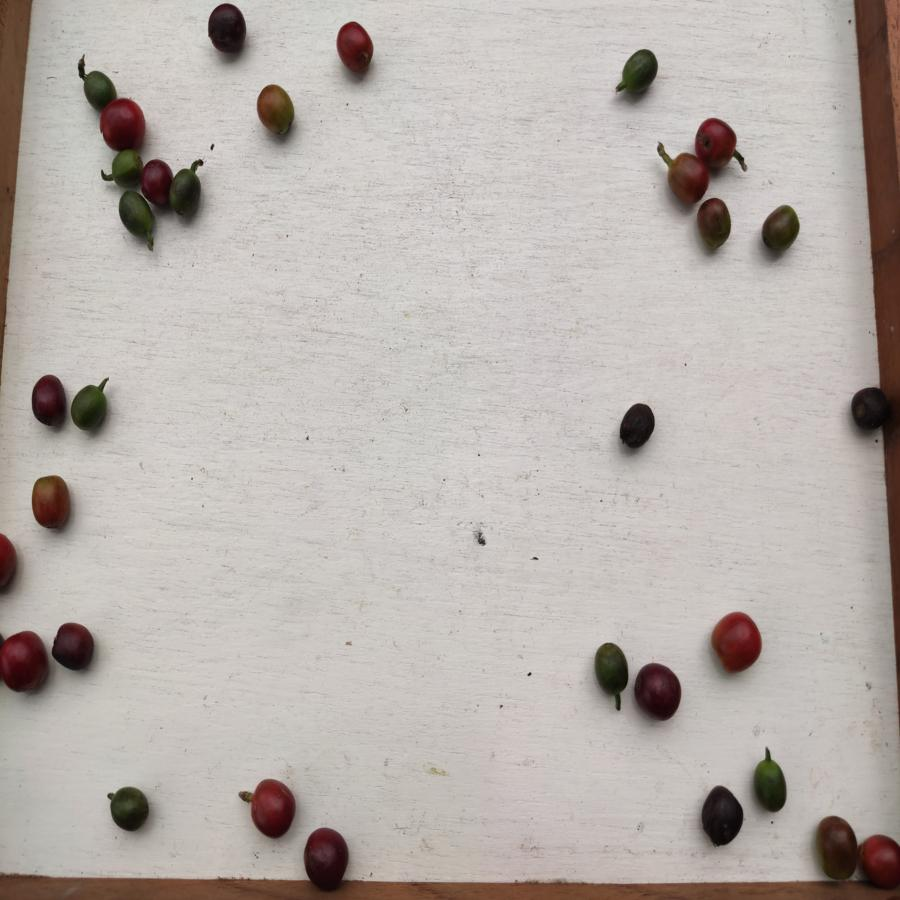Inmaduro: (592, 642, 631, 699), (106, 786, 151, 832), (753, 760, 793, 811), (68, 385, 110, 432), (116, 190, 153, 238), (621, 49, 659, 95), (168, 168, 204, 216), (77, 70, 118, 104), (107, 150, 141, 188)
Maduro: (713, 609, 765, 675), (246, 780, 296, 841), (98, 100, 149, 150), (335, 19, 378, 78), (693, 118, 739, 169), (858, 833, 900, 887)
Pinton: (252, 80, 296, 138), (30, 474, 74, 530), (662, 151, 710, 202), (759, 202, 802, 255), (695, 199, 734, 251)
Sobremaduro: (301, 824, 348, 887), (635, 662, 684, 722), (2, 631, 50, 690), (817, 814, 859, 881), (701, 785, 745, 845), (205, 3, 249, 57), (51, 620, 97, 671), (29, 373, 69, 430), (849, 387, 893, 433), (619, 402, 657, 449), (143, 159, 172, 206)
